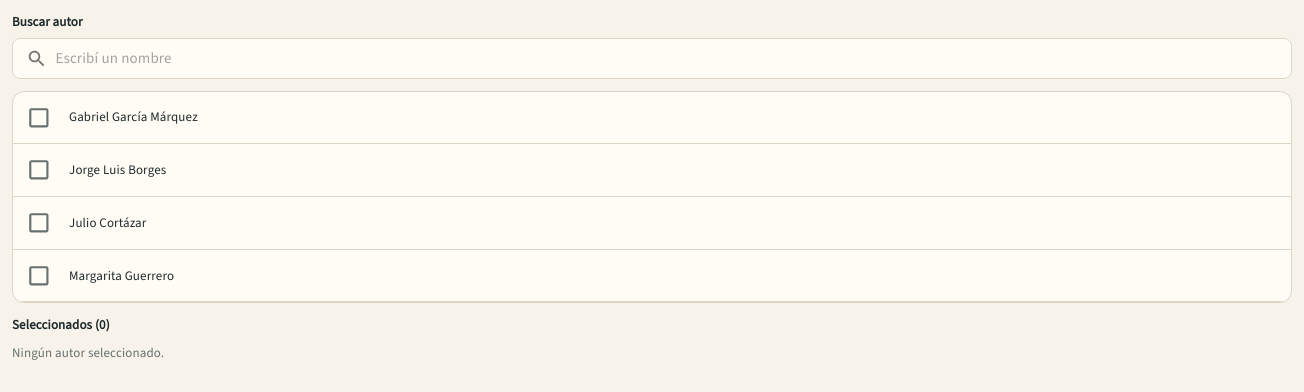
Test: AuthorPicker › lista autores existentes y los selecciona con checkbox
Step 1. Click the checkbox labelled "Jorge Luis Borges" → (39, 170), box 26,157 -> 52,183
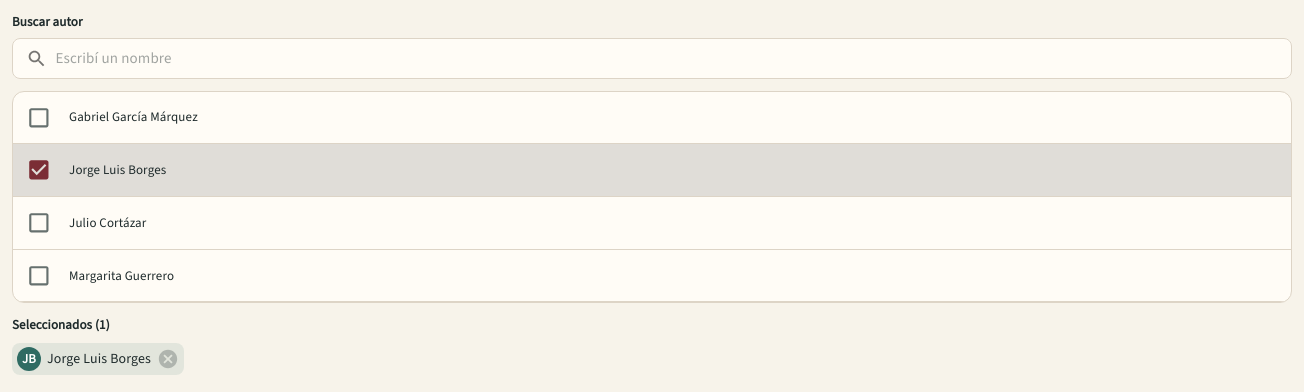
Check: the checkbox labelled "Jorge Luis Borges" is checked
Check: the text "Jorge Luis Borges" below "Seleccionados (" is shown, box 47,349 -> 151,368
Check: the heading "Seleccionados (1)" is shown, box 12,316 -> 110,333
Step 2. Click the checkbox labelled "Jorge Luis Borges" → (39, 170), box 26,157 -> 52,183
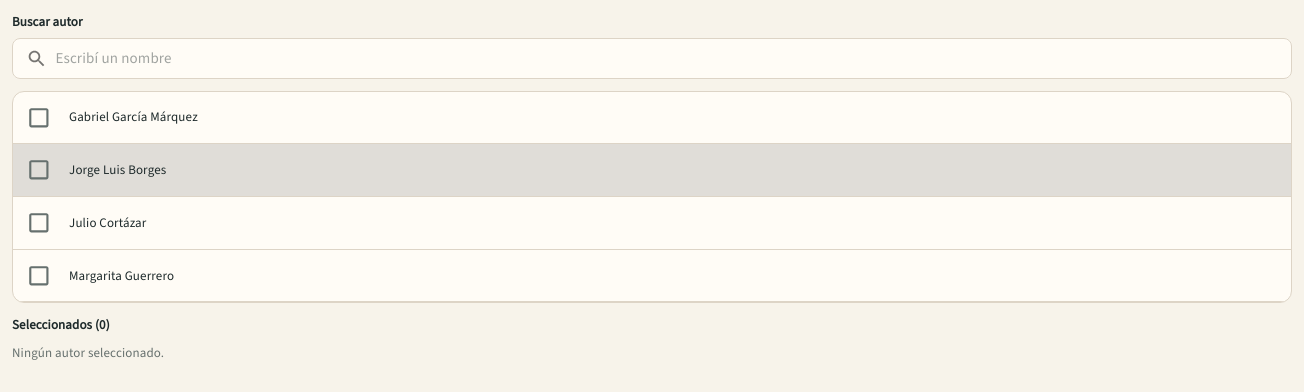
Check: the text "Ningún autor seleccionado." is shown, box 12,344 -> 164,361
